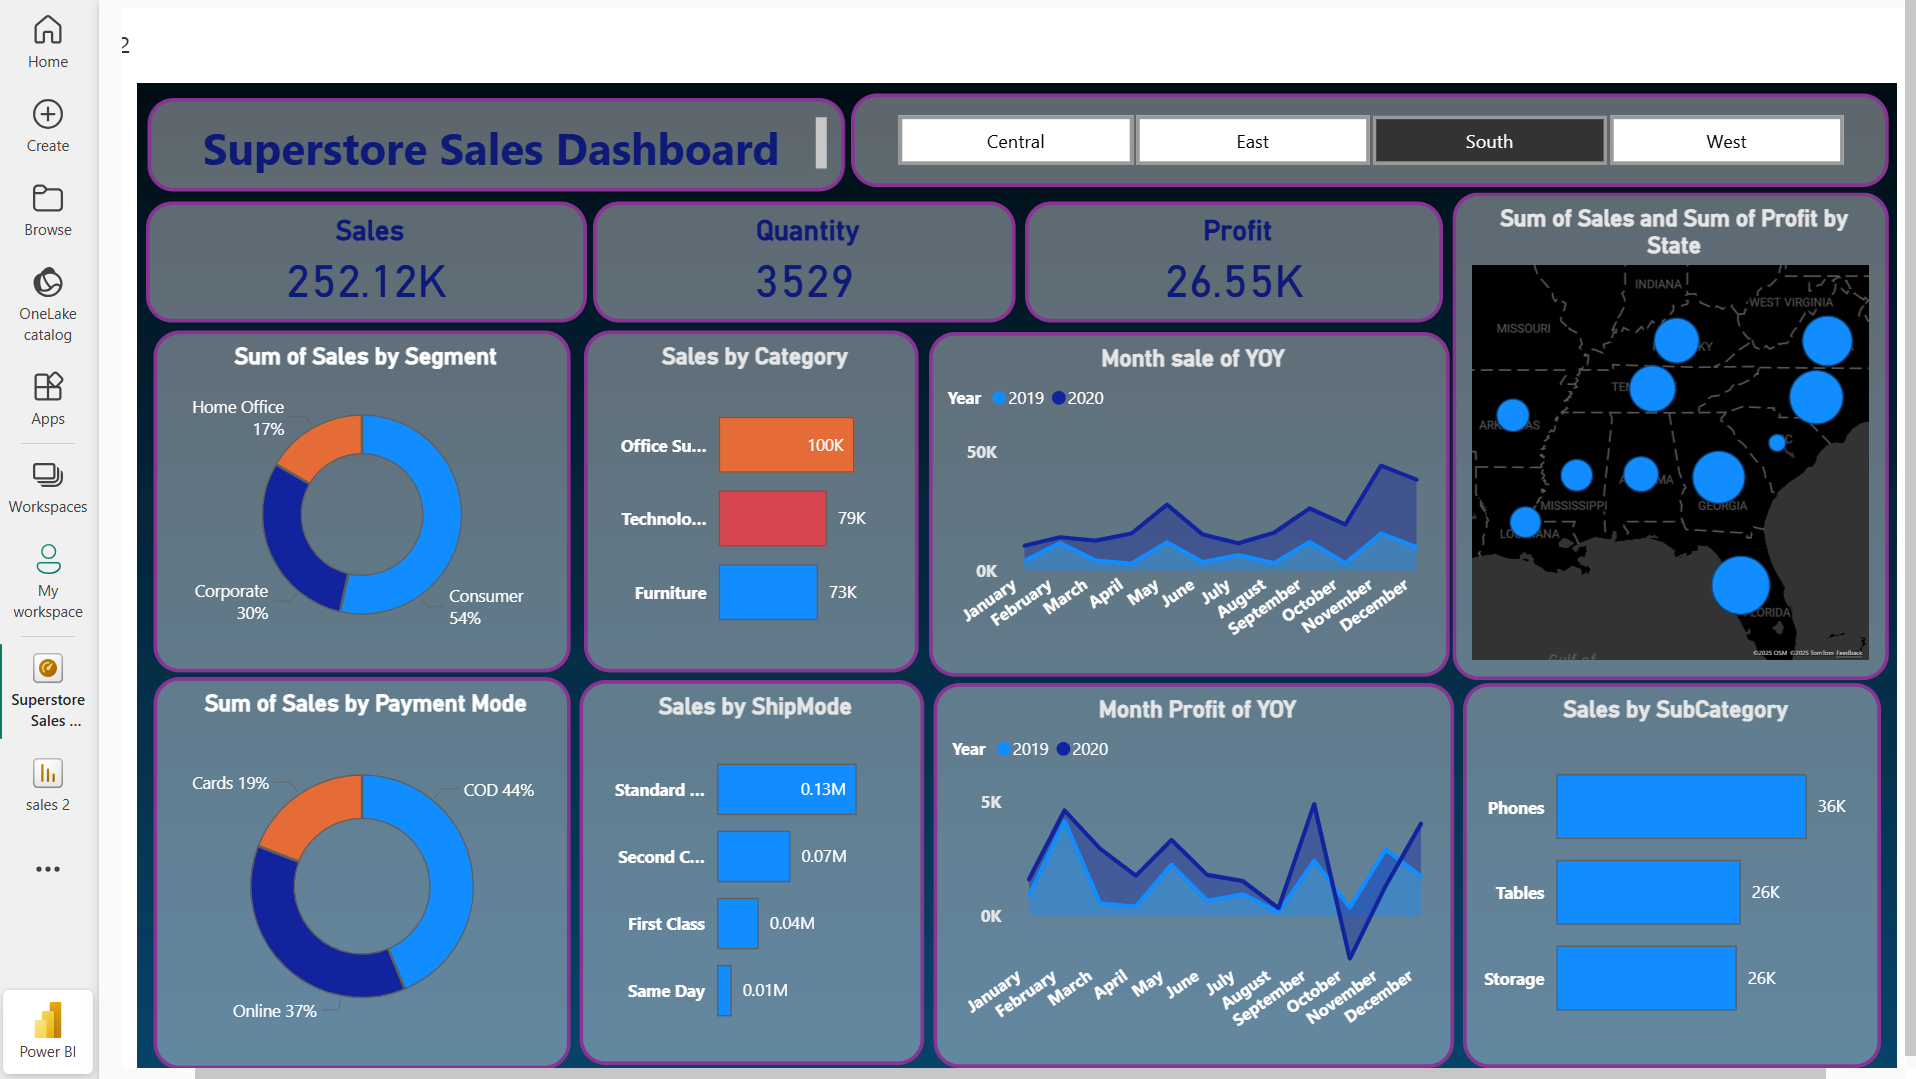

The page's visual inventory and layout, read from the dashboard file:
{"tool":"powerbi","page":{"name":"Page 1","canvas":[1280,720],"ordinal":0},"visuals":[{"type":"clusteredBarChart","title":"Sales by Category","fields":{"Category":["SuperStore_Sales_Dataset.Category"],"Y":["Sum(SuperStore_Sales_Dataset.Sales)"]},"box":[325,180,243.3,248.3],"z":0},{"type":"clusteredBarChart","title":"Sales by SubCategory","fields":{"Category":["SuperStore_Sales_Dataset.Sub-Category"],"Y":["Sum(SuperStore_Sales_Dataset.Sales)"]},"box":[964.5,435.9,304.2,279.8],"z":1000},{"type":"clusteredBarChart","title":"Sales by ShipMode","fields":{"Category":["SuperStore_Sales_Dataset.Ship Mode"],"Y":["Sum(SuperStore_Sales_Dataset.Sales)"]},"box":[322.1,434.3,250.5,279.8],"z":2000},{"type":"stackedAreaChart","title":"Month sale of YOY","fields":{"Category":["SuperStore_Sales_Dataset.Order Date.Variation.Date Hierarchy.Month","SuperStore_Sales_Dataset.Order Date.Variation.Date Hierarchy.Day"],"Y":["Sum(SuperStore_Sales_Dataset.Sales)"],"Series":["SuperStore_Sales_Dataset.Order Date.Variation.Date Hierarchy.Year"]},"box":[575.8,180.5,379,250.5],"z":3000},{"type":"stackedAreaChart","title":"Month Profit of YOY","fields":{"Category":["SuperStore_Sales_Dataset.Order Date.Variation.Date Hierarchy.Month","SuperStore_Sales_Dataset.Order Date.Variation.Date Hierarchy.Day"],"Y":["Sum(SuperStore_Sales_Dataset.Profit)"],"Series":["SuperStore_Sales_Dataset.Order Date.Variation.Date Hierarchy.Year"]},"box":[579,435.9,379,279.8],"z":4000},{"type":"azureMap","fields":{"Category":["SuperStore_Sales_Dataset.State"],"Size":["Sum(SuperStore_Sales_Dataset.Sales)"]},"box":[956.4,79.7,317.2,354.6],"z":5000},{"type":"donutChart","fields":{"Category":["SuperStore_Sales_Dataset.Segment"],"Y":["Sum(SuperStore_Sales_Dataset.Sales)"]},"box":[11.7,180,303.3,248.3],"z":6000},{"type":"donutChart","fields":{"Y":["Sum(SuperStore_Sales_Dataset.Sales)"],"Category":["SuperStore_Sales_Dataset.Payment Mode"]},"box":[11.7,431.7,303.3,285],"z":7000},{"type":"slicer","fields":{"Values":["SuperStore_Sales_Dataset.Region"]},"box":[518.9,8.1,754.7,68.3],"z":8000},{"type":"textbox","box":[8.1,11.4,507.5,68.3],"z":9000},{"type":"card","title":"Sales","fields":{"Values":["Sum(SuperStore_Sales_Dataset.Sales)"]},"box":[6.5,86.2,320.4,87.8],"z":10000},{"type":"card","title":"Quantity","fields":{"Values":["Sum(SuperStore_Sales_Dataset.Quantity)"]},"box":[331.8,86.2,307.4,87.8],"z":11000},{"type":"card","title":"Profit","fields":{"Values":["Sum(SuperStore_Sales_Dataset.Profit)"]},"box":[645.7,86.2,304.2,87.8],"z":12000}]}

Visuals, with their boxes on the page's 1280x720 design canvas (x1, y1, x2, y2). These are canvas units, not pixel positions in the 1916x1079 screenshot, which may show the page scaled, cropped or inside an application window:
"Sales by Category" clusteredBarChart: (x1=325, y1=180, x2=568, y2=428)
"Sales by SubCategory" clusteredBarChart: (x1=964, y1=436, x2=1269, y2=716)
"Sales by ShipMode" clusteredBarChart: (x1=322, y1=434, x2=573, y2=714)
"Month sale of YOY" stackedAreaChart: (x1=576, y1=180, x2=955, y2=431)
"Month Profit of YOY" stackedAreaChart: (x1=579, y1=436, x2=958, y2=716)
azureMap - SuperStore_Sales_Dataset.State x Sum(SuperStore_Sales_Dataset.Sales): (x1=956, y1=80, x2=1274, y2=434)
donutChart - SuperStore_Sales_Dataset.Segment x Sum(SuperStore_Sales_Dataset.Sales): (x1=12, y1=180, x2=315, y2=428)
donutChart - Sum(SuperStore_Sales_Dataset.Sales) x SuperStore_Sales_Dataset.Payment Mode: (x1=12, y1=432, x2=315, y2=717)
slicer - SuperStore_Sales_Dataset.Region: (x1=519, y1=8, x2=1274, y2=76)
textbox: (x1=8, y1=11, x2=516, y2=80)
"Sales" card: (x1=6, y1=86, x2=327, y2=174)
"Quantity" card: (x1=332, y1=86, x2=639, y2=174)
"Profit" card: (x1=646, y1=86, x2=950, y2=174)
